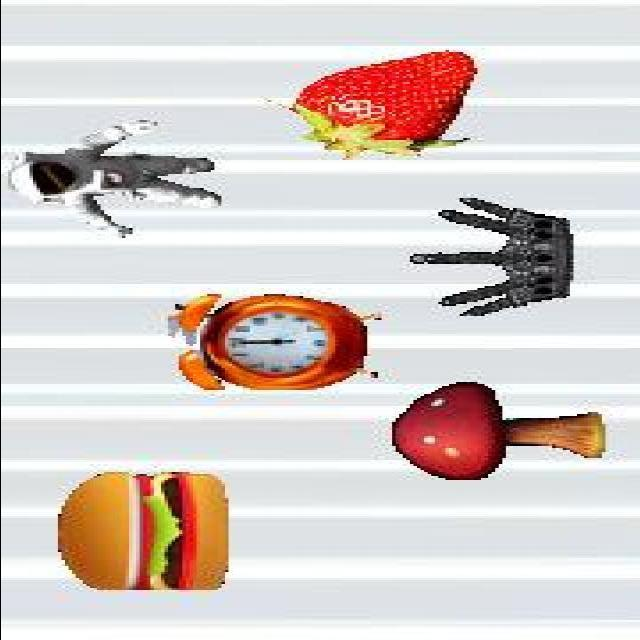Other Objects: (5, 120, 222, 239), (164, 291, 380, 391), (389, 382, 606, 480), (55, 471, 228, 591), (407, 196, 572, 318)
